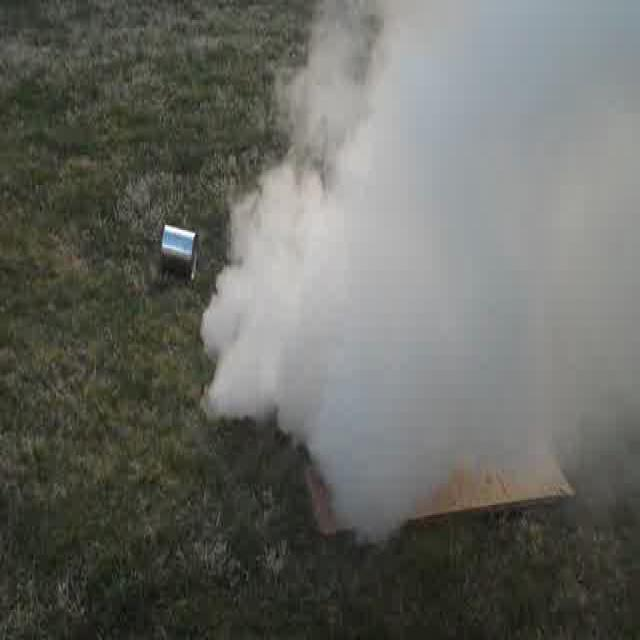Smoke: (216, 4, 640, 448)
